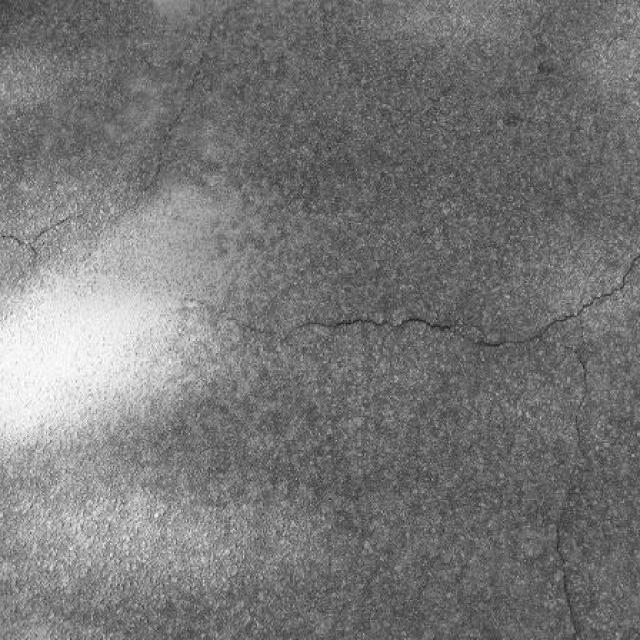Crack: (206, 258, 639, 639), (134, 22, 216, 206), (1, 212, 84, 267)
